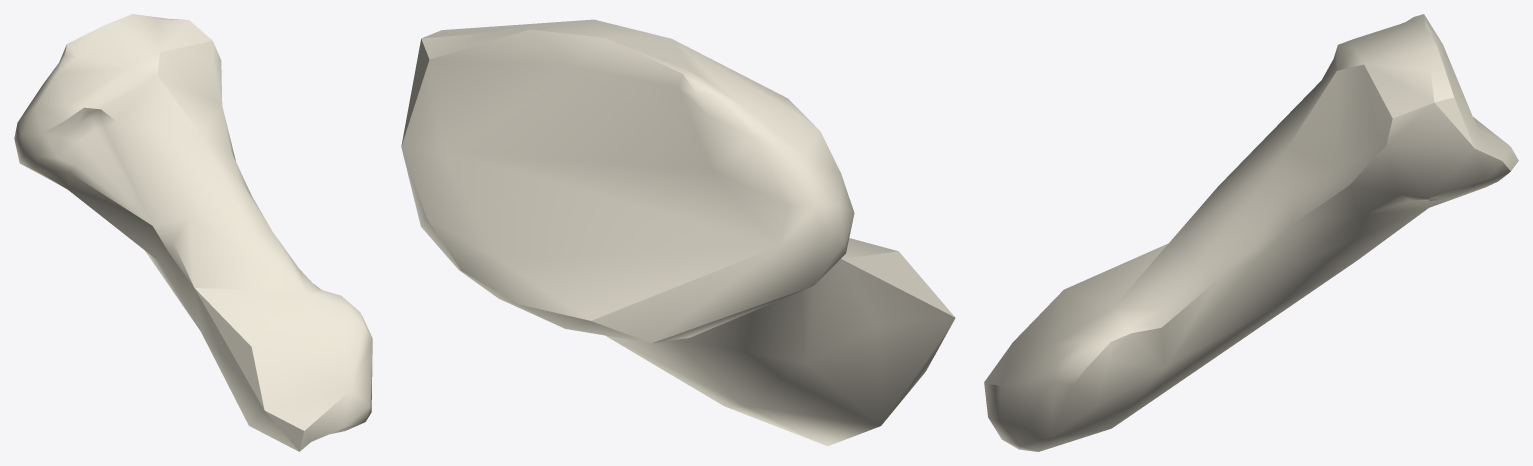
The model's file is fma24460_fj6303.glb.
3 renders of one model, left to right at view 1: azimuth 30°, elevation 25°; view 2: azimuth 150°, elevation 25°; view 3: azimuth 270°, elevation 25°, orthographic. The views are drawn at different scales.
Parts seen in each view (by area): view 1: FMA24460_FJ6303; view 2: FMA24460_FJ6303; view 3: FMA24460_FJ6303.
Boxes of the visible parts, left/top/right/bottom form: FMA24460_FJ6303: left=14, top=14, right=372, bottom=451; FMA24460_FJ6303: left=401, top=19, right=955, bottom=446; FMA24460_FJ6303: left=984, top=14, right=1518, bottom=451.
Size of the model in its own units: 0.0101 by 0.0139 by 0.0171.
